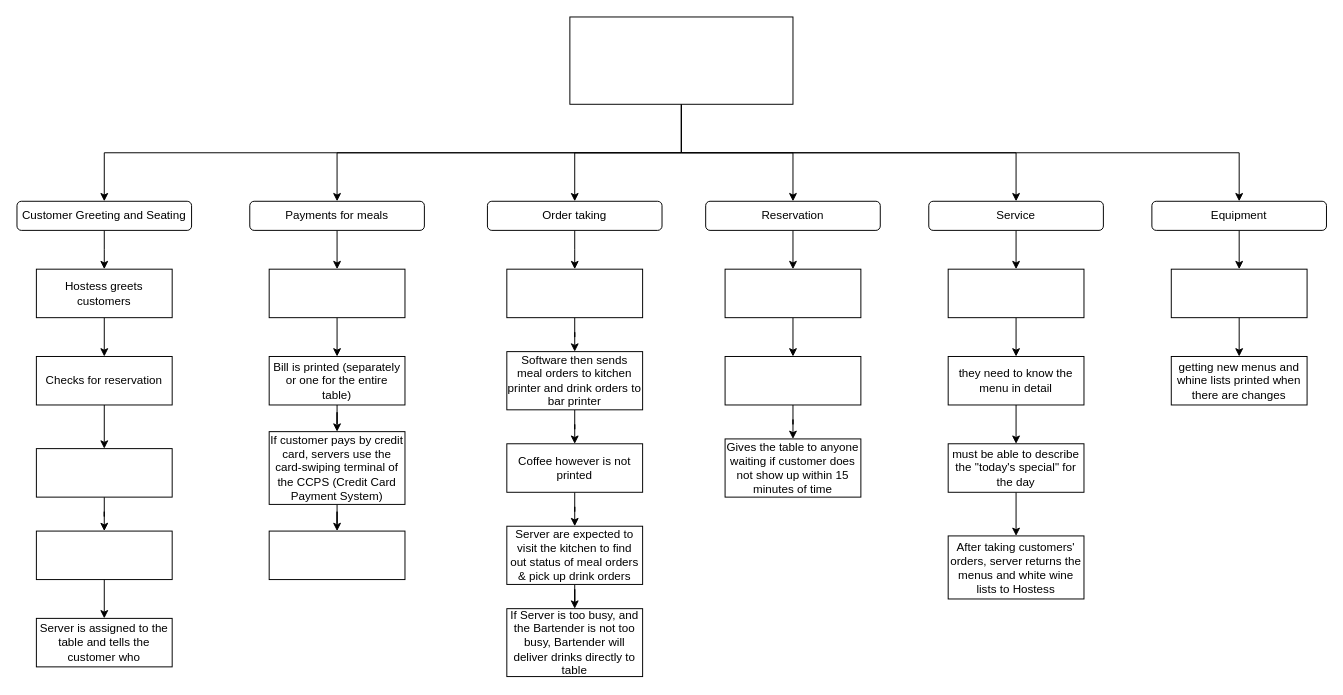
Some shapes in this 1343 by 695 pixel diagram are drawn without their labels. The shapes that lost their labels are listed below. From the top down, each one's centre as x and y in pixels, then its label:
the point at 681,60: Dining Room
the point at 336,293: MOBS system is used
the point at 574,293: The Servers enter all the meal-order details per table on these terminals
the point at 792,293: Hostess Checks reservation
the point at 1015,293: Servers take the meal and drink orders from the customers
the point at 1238,293: Ordering linens, cutlery, plates, etc. from suppliers
the point at 792,380: Rings a customer if he does not show up
the point at 103,472: Hang up customers coats & seats them to a table
the point at 103,555: Customer receive a menu & white wine list
the point at 336,555: Management, receiving and giving of Cash
